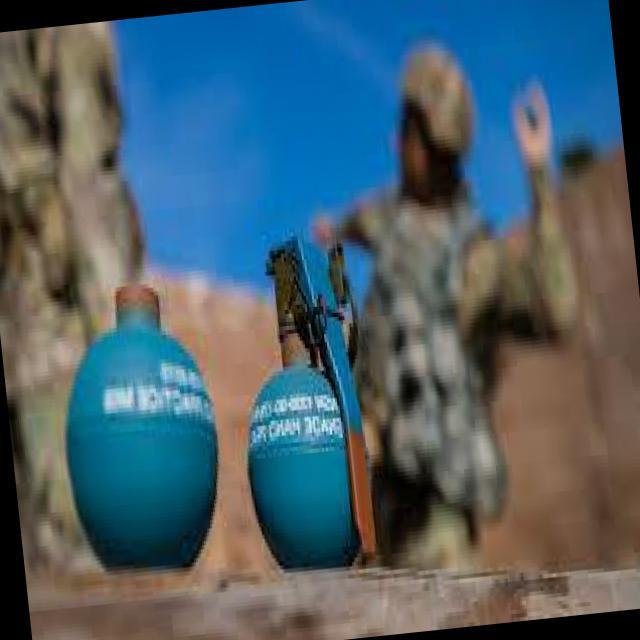grenade: (224, 230, 388, 580)
